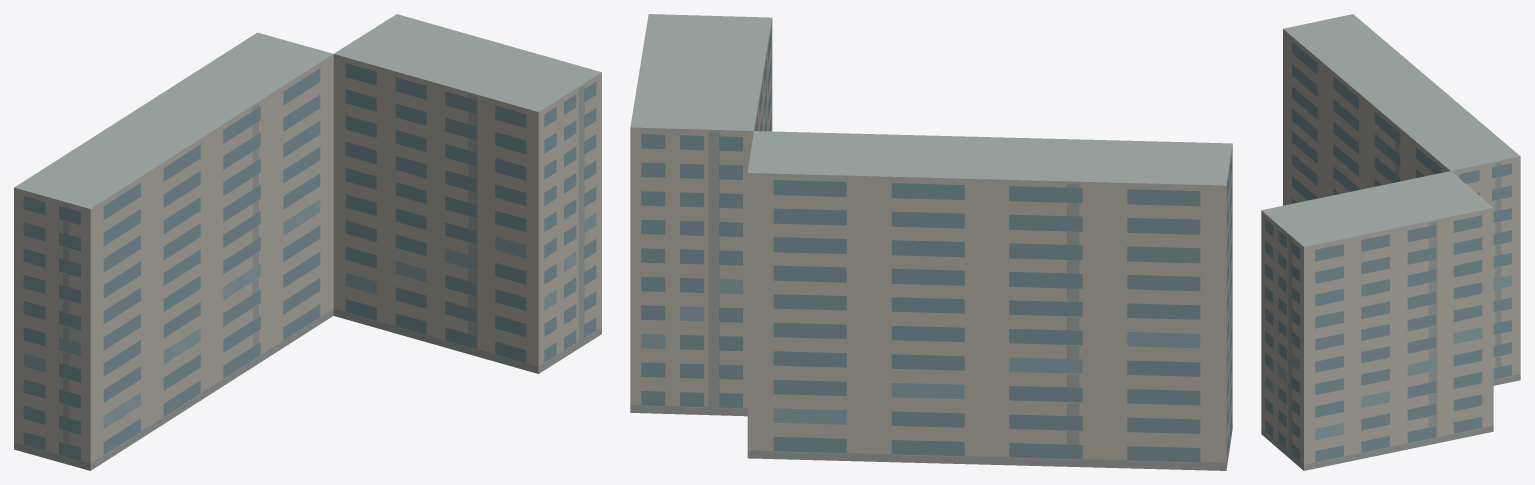
The model's file is residential-bea159c7-466d-4084-954f-e19a18562a44.glb.
3 renders of one model, left to right at view 1: azimuth 30°, elevation 25°; view 2: azimuth 150°, elevation 25°; view 3: azimuth 270°, elevation 25°, orthographic. The views are drawn at different scales.
Visible parts, largest first — view 1: residential-bea159c7-466d-4084-954f-e19a18562a44.tmp; view 2: residential-bea159c7-466d-4084-954f-e19a18562a44.tmp; view 3: residential-bea159c7-466d-4084-954f-e19a18562a44.tmp.
Part boxes in pixels (x1,y1,x2,y2): residential-bea159c7-466d-4084-954f-e19a18562a44.tmp: (14, 14, 601, 470); residential-bea159c7-466d-4084-954f-e19a18562a44.tmp: (630, 14, 1232, 470); residential-bea159c7-466d-4084-954f-e19a18562a44.tmp: (1261, 14, 1520, 470).
Size of the model in its own units: 68.12 by 30.5 by 32.05.
